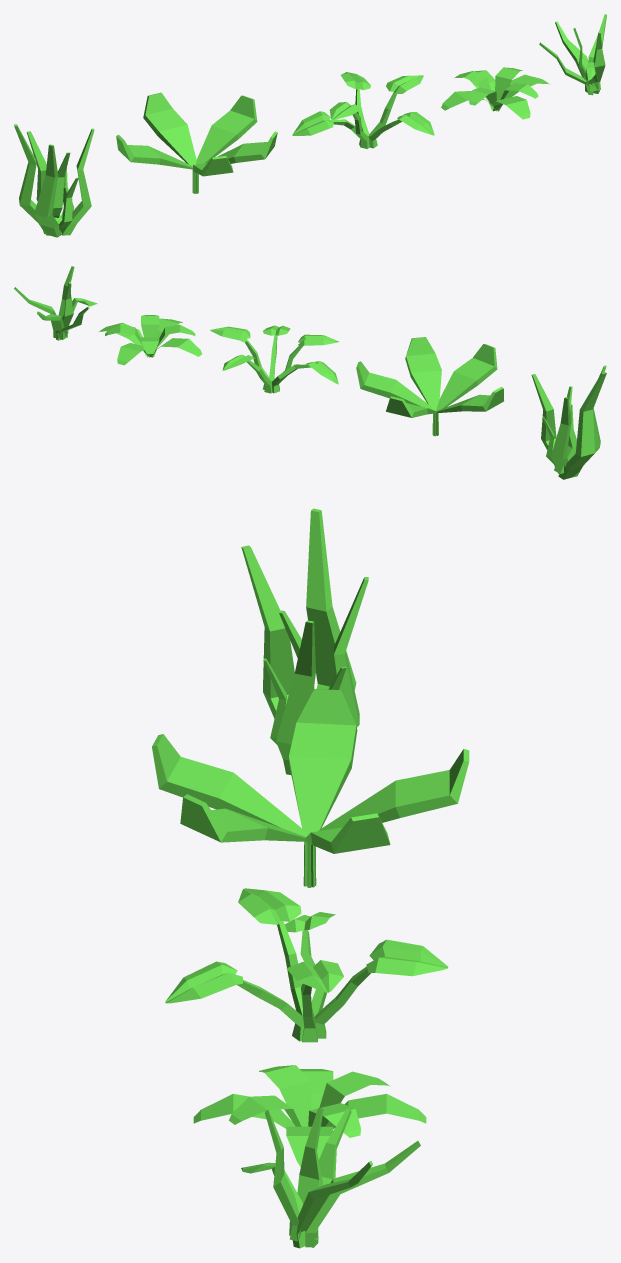
File: Кусты.fbx
3 renders of one model, top to bottom at view 1: azimuth 30°, elevation 25°; view 2: azimuth 150°, elevation 25°; view 3: azimuth 270°, elevation 25°, orthographic. The views are drawn at different scales.
Parts seen in each view (by area): view 1: Куст5, Куст4, Куст1, Куст2, Куст3; view 2: Куст5, Куст4, Куст1, Куст2, Куст3; view 3: Куст5, Куст4, Куст1, Куст2, Куст3.
Boxes of the visible parts, x1,y1,x2,y2 form: Куст5: (116, 92, 277, 193); Куст4: (14, 124, 94, 237); Куст1: (292, 72, 434, 148); Куст2: (441, 67, 549, 119); Куст3: (539, 14, 606, 95); Куст5: (356, 337, 503, 436); Куст4: (531, 365, 606, 479); Куст1: (210, 325, 338, 393); Куст2: (99, 315, 201, 365); Куст3: (14, 266, 97, 340); Куст5: (152, 689, 469, 887); Куст4: (241, 508, 368, 774); Куст1: (165, 888, 448, 1042); Куст2: (193, 1065, 426, 1166); Куст3: (241, 1108, 420, 1248).
Size of the model in its own units: 293 by 53.88 by 69.53.
